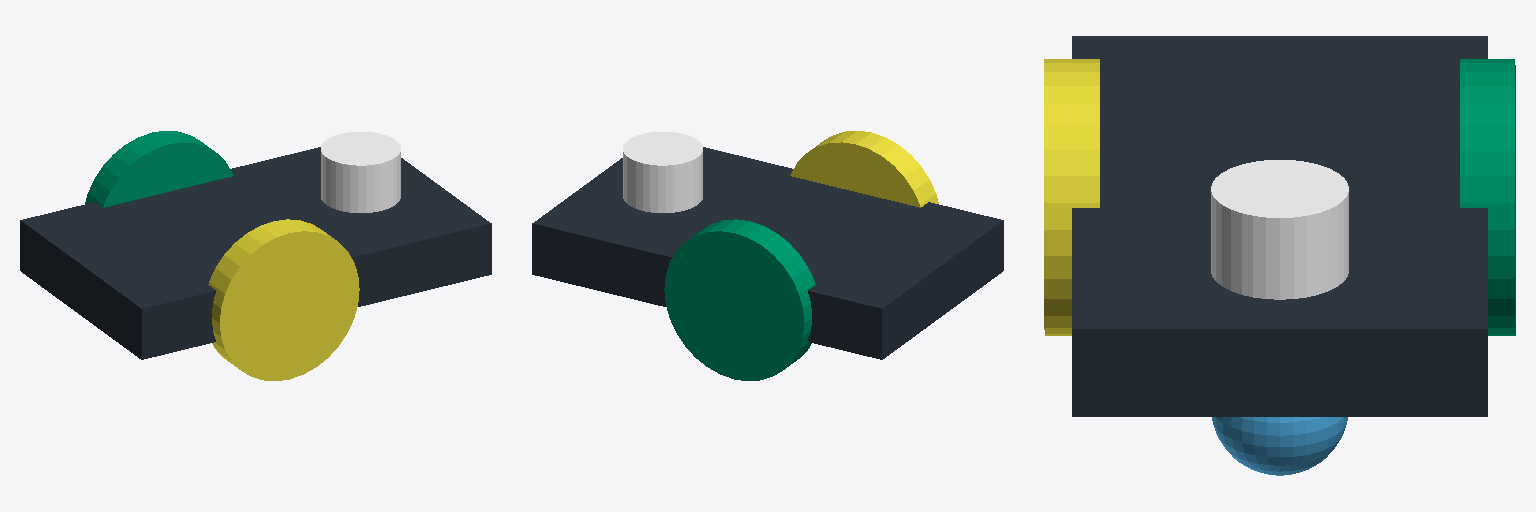
robot.urdf — mobile_robot:
<?xml version="1.0" ?>

<robot name="mobile_robot" xmlns:xacro="https://www.ros.org/wiki/xacro" >
    
  <material name="black">
    <color rgba="0.0 0.0 0.0 1.0"/>
  </material>
  <material name="blue">
    <color rgba="0.203125 0.23828125 0.28515625 1.0"/>
  </material>
  <material name="green">
    <color rgba="0.0 0.8 0.0 1.0"/>
  </material>
  <material name="grey">
    <color rgba="0.2 0.2 0.2 1.0"/>
  </material>
  <material name="orange">
    <color rgba="1.0 0.423529411765 0.0392156862745 1.0"/>
  </material>
  <material name="brown">
    <color rgba="0.870588235294 0.811764705882 0.764705882353 1.0"/>
  </material>
  <material name="red">
    <color rgba="0.80078125 0.12890625 0.1328125 1.0"/>
  </material>
  <material name="white">
    <color rgba="1.0 1.0 1.0 1.0"/>
  </material>  
  
  <gazebo reference="link_chassis">
    <material>Gazebo/Orange</material>
  </gazebo>
  <gazebo reference="link_left_wheel">
    <material>Gazebo/Blue</material>
  </gazebo>
  <gazebo reference="link_right_wheel">
    <material>Gazebo/Blue</material>
  </gazebo>
    

	<link name="base_footprint">
	  <visual>
		<origin rpy="0 0 0" xyz="0 0 0"/>
		<geometry>
		  <box size="0.001 0.001 0.001"/>
		</geometry>
	  </visual>
	</link>

	<gazebo reference="base_footprint">
	  <turnGravityOff>false</turnGravityOff>
	</gazebo>

	<joint name="base_footprint_joint" type="fixed">
	  <parent link="base_footprint"/>
	  <child link="link_chassis"/>
	</joint>


  <link name="link_chassis">
    <!-- pose and inertial -->
    <pose>0 0 0.1 0 0 0</pose>
    
    <inertial>
      <mass value="5"/>
      <origin rpy="0 0 0" xyz="0 0 0.1"/>
      <inertia ixx="0.0395416666667" ixy="0" ixz="0" iyy="0.106208333333" iyz="0" izz="0.106208333333"/>
    </inertial>
    
    <collision name="collision_chassis">
      <geometry>
        <box size="0.5 0.3 0.07"/>
      </geometry>
    </collision>
    
    <visual>
      <origin rpy="0 0 0" xyz="0 0 0"/>
      <geometry>
        <box size="0.5 0.3 0.07"/>
      </geometry>
      <material name="blue"/>
    </visual>
    
    <!-- caster front -->
    <collision name="caster_front_collision">
      <origin rpy=" 0 0 0" xyz="0.35 0 -0.05"/>
      <geometry>
        <sphere radius="0.05"/>
      </geometry>
      <surface>
        <friction>
          <ode>
            <mu>0</mu>
            <mu2>0</mu2>
            <slip1>1.0</slip1>
            <slip2>1.0</slip2>
          </ode>
        </friction>
      </surface>
    </collision>
    <visual name="caster_front_visual">
      <origin rpy=" 0 0 0" xyz="0.2 0 -0.05"/>
      <geometry>
        <sphere radius="0.05"/>
      </geometry>
    </visual>
    </link>
  
  <!-- Create wheel right -->  
    
  <link name="link_right_wheel">    
    <inertial>
      <mass value="0.2"/>
      <origin rpy="0 1.5707 1.5707" xyz="0 0 0"/>
      <inertia ixx="0.00052666666" ixy="0" ixz="0" iyy="0.00052666666" iyz="0" izz="0.001"/>
    </inertial>
    
    <collision name="link_right_wheel_collision">
      <origin rpy="0 1.5707 1.5707" xyz="0 0 0" />
      <geometry>
        <cylinder length="0.04" radius="0.1"/>
      </geometry>
    </collision>
    
    <visual name="link_right_wheel_visual">
      <origin rpy="0 1.5707 1.5707" xyz="0 0 0"/>
      <geometry>
        <cylinder length="0.04" radius="0.1"/>
      </geometry>      
    </visual>
    
  </link>
    
  <!--   Joint for right wheel  -->
  <joint name="joint_right_wheel" type="continuous">
    <origin rpy="0 0 0" xyz="-0.05 0.15 0"/>
    <child link="link_right_wheel" />
    <parent link="link_chassis"/>
    <axis rpy="0 0 0" xyz="0 1 0"/>
    <limit effort="10000" velocity="1000"/>
    <joint_properties damping="1.0" friction="1.0" />
  </joint>  
    
  <!-- Left Wheel link -->
    
  <link name="link_left_wheel">    
    <inertial>
      <mass value="0.2"/>
      <origin rpy="0 1.5707 1.5707" xyz="0 0 0"/>
      <inertia ixx="0.00052666666" ixy="0" ixz="0" iyy="0.00052666666" iyz="0" izz="0.001"/>
    </inertial>
    
    <collision name="link_left_wheel_collision">
      <origin rpy="0 1.5707 1.5707" xyz="0 0 0" />
      <geometry>
        <cylinder length="0.04" radius="0.1"/>
      </geometry>
    </collision>
    
    <visual name="link_left_wheel_visual">
      <origin rpy="0 1.5707 1.5707" xyz="0 0 0"/>
      <geometry>
        <cylinder length="0.04" radius="0.1"/>
      </geometry>      
    </visual>
    
  </link>
    

    <!-- laser scanner sensor -->
   <link name="sensor_laser">
    <inertial>
      <origin xyz="0 0 0" rpy="0 0 0" />
      <mass value="1" />  
      <inertia ixx="0.00052666666" ixy="0" ixz="0" iyy="0.00052666666" iyz="0" izz="0.001"/>
<!--   
      <xacro:cylinder_inertia mass="1" r="0.05" l="0.1" />  -->
   </inertial>

    <visual>
      <origin xyz="0 0 0" rpy="0 0 0" />
      <geometry>
        <cylinder radius="0.05" length="0.1"/>
      </geometry>
      <material name="white" />
    </visual>

    <collision>
      <origin xyz="0 0 0" rpy="0 0 0"/>
      <geometry>
        <cylinder radius="0.05" length="0.1"/>
      </geometry>
    </collision>
  </link>

  <joint name="joint_sensor_laser" type="fixed">
    <origin xyz="0.15 0 0.05" rpy="0 0 0"/>
    <parent link="link_chassis"/>
    <child link="sensor_laser"/>
  </joint>
  <!--   Joint for right wheel  -->
  <joint name="joint_left_wheel" type="continuous">
    <origin rpy="0 0 0" xyz="-0.05 -0.15 0"/>
    <child link="link_left_wheel" />
    <parent link="link_chassis"/>
    <axis rpy="0 0 0" xyz="0 1 0"/>
    <limit effort="10000" velocity="1000"/>
    <joint_properties damping="1.0" friction="1.0" />
  </joint>    


<gazebo reference="link_chassis">
    <material>Gazebo/Orange</material>
  </gazebo>
  <gazebo reference="link_left_wheel">
    <material>Gazebo/Blue</material>
  </gazebo>
  <gazebo reference="link_right_wheel">
    <material>Gazebo/Blue</material>
  </gazebo>

  <gazebo>
    <plugin filename="libgazebo_ros_diff_drive.so" name="differential_drive_controller">
      <alwaysOn>true</alwaysOn>
      <updateRate>20</updateRate>
      <leftJoint>joint_left_wheel</leftJoint>
      <rightJoint>joint_right_wheel</rightJoint>
      <wheelSeparation>0.4</wheelSeparation>
      <wheelDiameter>0.2</wheelDiameter>
      <torque>0.1</torque>
      <commandTopic>cmd_vel</commandTopic>
      <odometryTopic>odom</odometryTopic>
      <odometryFrame>odom</odometryFrame>
      <robotBaseFrame>link_chassis</robotBaseFrame>
    </plugin>
  </gazebo>


<gazebo reference="sensor_laser">
    <sensor type="ray" name="head_hokuyo_sensor">
      <pose>0 0 0 0 0 0</pose>
      <visualize>false</visualize>
      <update_rate>20</update_rate>
      <ray>
        <scan>
          <horizontal>
            <samples>720</samples>
            <resolution>1</resolution>
            <min_angle>-1.570796</min_angle>
            <max_angle>1.570796</max_angle>
          </horizontal>
        </scan>
        <range>
          <min>0.10</min>
          <max>10.0</max>
          <resolution>0.01</resolution>
        </range>
        <noise>
          <type>gaussian</type>
          <mean>0.0</mean>
          <stddev>0.01</stddev>
        </noise>
      </ray>
      <plugin name="gazebo_ros_head_hokuyo_controller" filename="libgazebo_ros_laser.so">
        <topicName>/mrobot/laser/scan</topicName>
        <frameName>sensor_laser</frameName>
      </plugin>
    </sensor>
  </gazebo>


</robot>

--- What the picture shows (computed from the rendered views, not written in the file) ---
Views: 3 orthographic renders of the robot side by side, from view 1: azimuth 30°, elevation 25°; view 2: azimuth 150°, elevation 25°; view 3: azimuth 270°, elevation 25°.
Model mobile_robot with 5 links and 4 joints (2 continuous, 2 fixed), rooted at base_footprint, posed all joints at 0.
Visible links, largest first — view 1: link_chassis, link_left_wheel, link_right_wheel, sensor_laser; view 2: link_chassis, link_right_wheel, link_left_wheel, sensor_laser; view 3: link_chassis, sensor_laser, link_right_wheel, link_left_wheel.
Link boxes in pixels (x1,y1,x2,y2): link_chassis: (20,147,491,359); link_left_wheel: (208,219,359,380); link_right_wheel: (85,131,233,207); sensor_laser: (321,132,400,212); link_chassis: (532,147,1003,359); link_right_wheel: (664,219,815,380); link_left_wheel: (790,131,938,207); sensor_laser: (623,132,702,212); link_chassis: (1072,36,1487,475); sensor_laser: (1211,160,1348,299); link_right_wheel: (1460,59,1515,335); link_left_wheel: (1044,59,1099,335).
Size in the robot's own frame: 0.5 by 0.34 by 0.2 metres.
Geometry: primitives only (box / cylinder / sphere), no mesh files.
